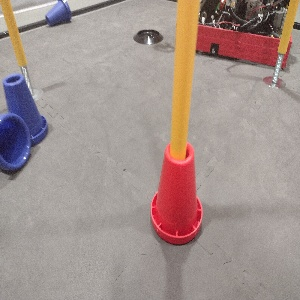Blue_1: (1, 74, 51, 145), (0, 114, 32, 172), (41, 0, 74, 23)
Red_1: (147, 135, 204, 245)
